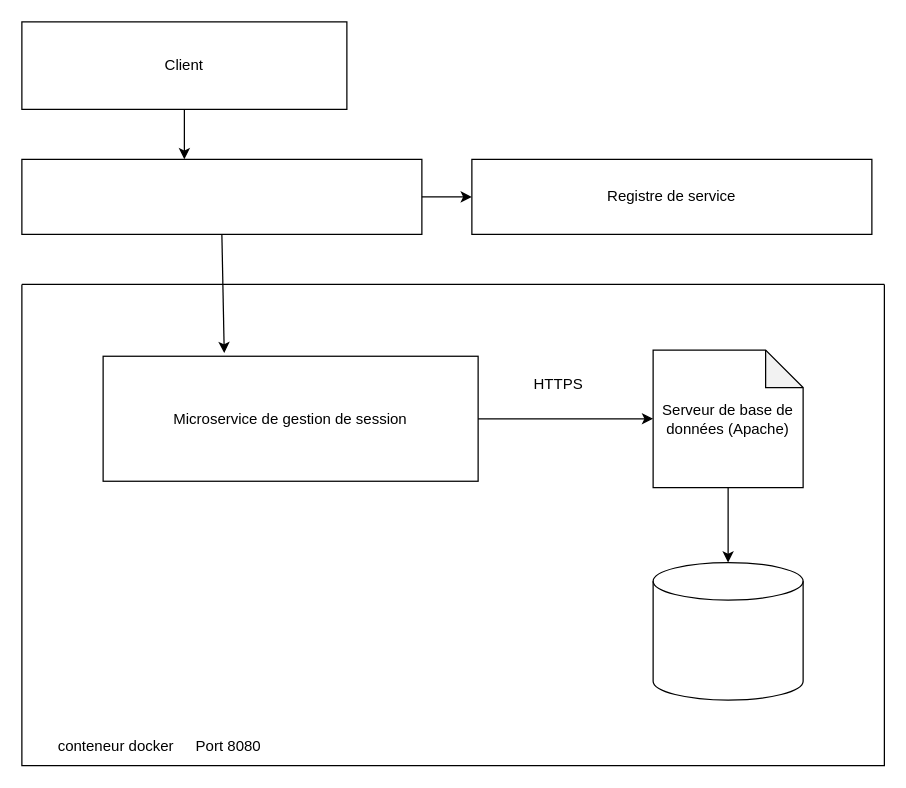
The diagram is 906 pixels wide and 788 high, and some of its shapes have lost their labels. Each missing label, with the centre of its shape:
"Base de données de gestion de session" goes at (x=727, y=630).
"Passerelle API" goes at (x=221, y=196).
